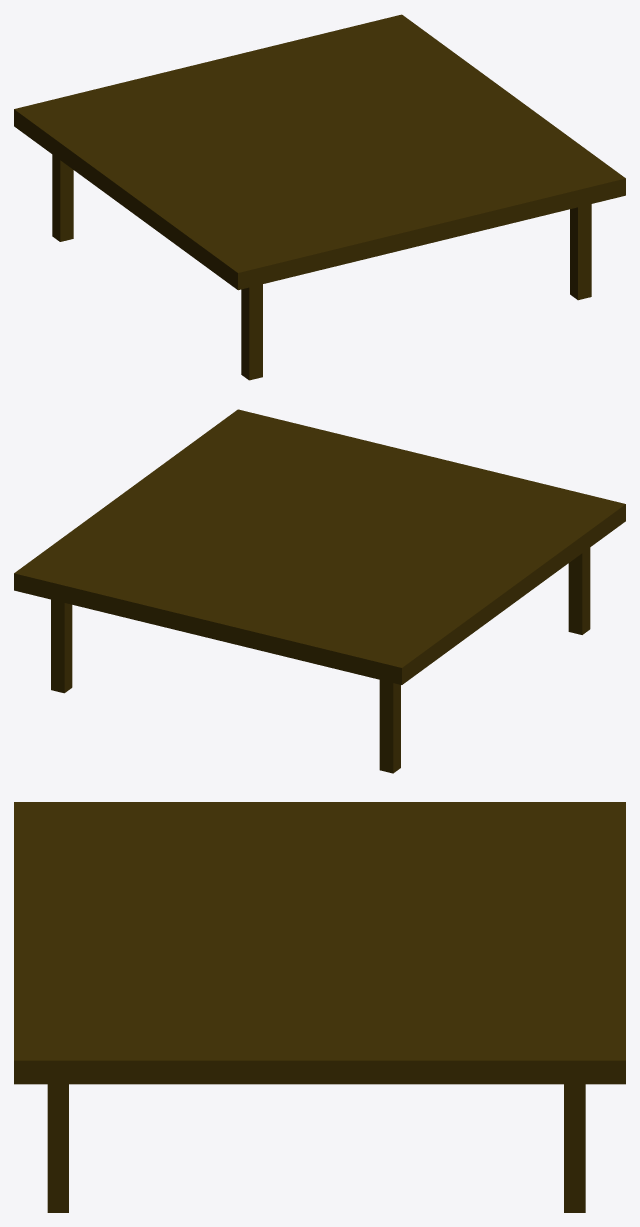
File: coffeetable.fbx
The picture shows the model from 3 angles, top to bottom: view 1: azimuth 30°, elevation 25°; view 2: azimuth 150°, elevation 25°; view 3: azimuth 270°, elevation 25°; orthographic projection. The views are drawn at different scales.
Parts seen in each view (by area): view 1: group_pasted__pCube2_pasted__polySurface1; view 2: group_pasted__pCube2_pasted__polySurface1; view 3: group_pasted__pCube2_pasted__polySurface1.
Boxes of the visible parts, x1,y1,x2,y2 form: group_pasted__pCube2_pasted__polySurface1: (14, 14, 625, 380); group_pasted__pCube2_pasted__polySurface1: (14, 409, 625, 773); group_pasted__pCube2_pasted__polySurface1: (14, 802, 625, 1212).
Size of the model in its own units: 8.54 by 2.57 by 8.54.
